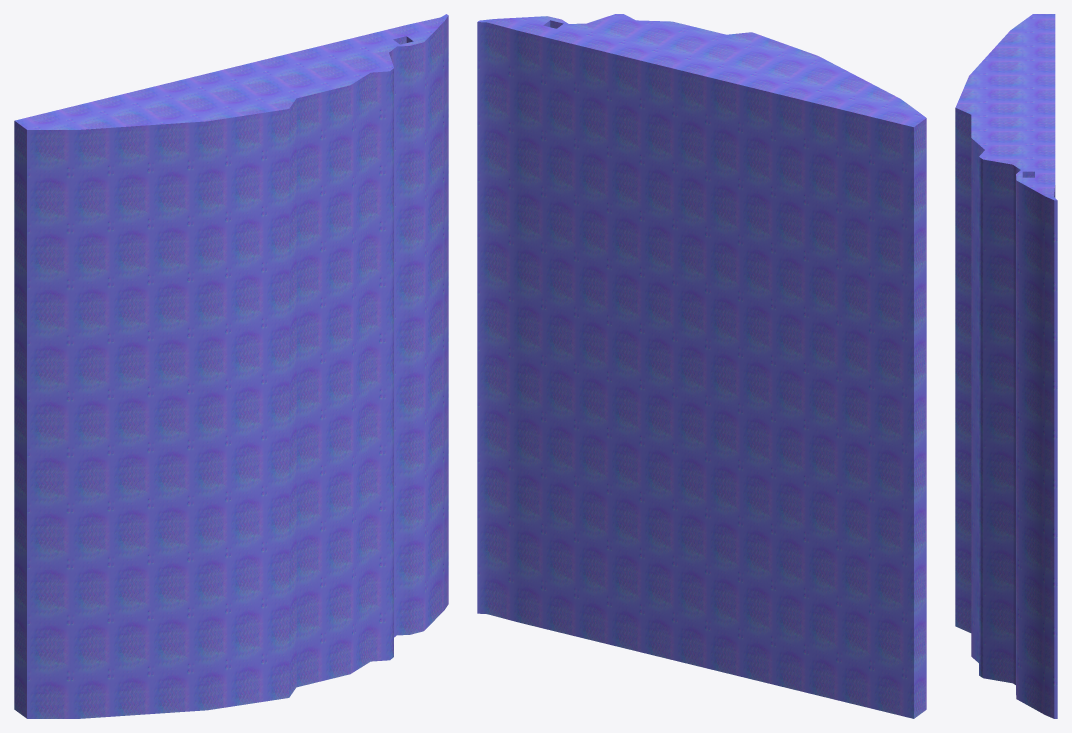
Rendered from env_st_salle_2_sol_2.fbx.
The picture shows the model from 3 angles, left to right: view 1: azimuth 30°, elevation 25°; view 2: azimuth 150°, elevation 25°; view 3: azimuth 270°, elevation 25°; orthographic projection. The views are drawn at different scales.
Visible parts, largest first — view 1: Box024; view 2: Box024; view 3: Box024.
Part boxes in pixels (x1,y1,x2,y2): Box024: (14,14,448,718); Box024: (477,14,926,718); Box024: (955,14,1057,718).
Bounding box in the file's own units: 4208 × 5465 × 974.
